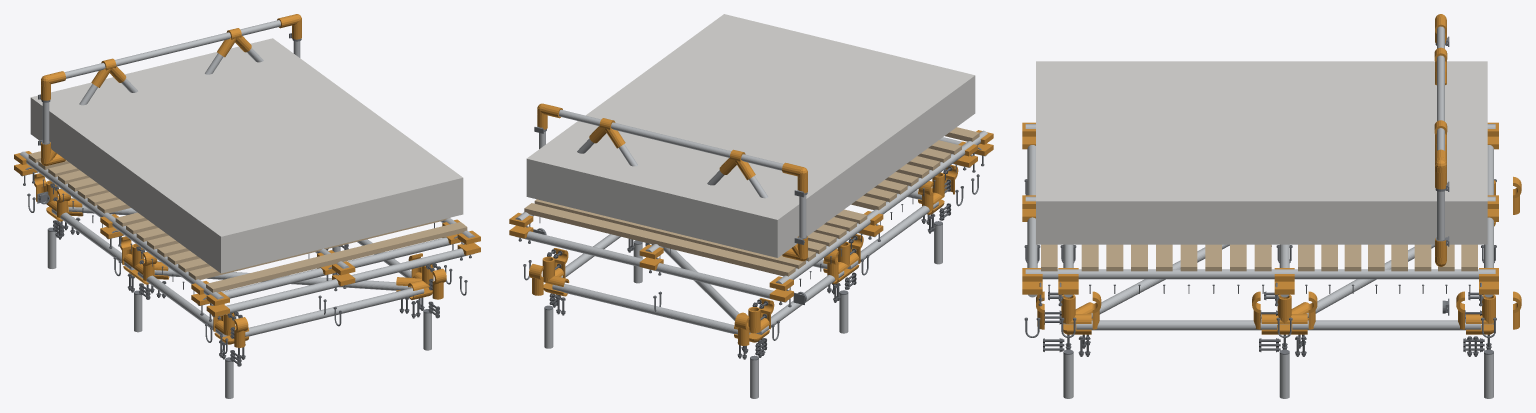
File: cama_explodida.glb
The picture shows the model from 3 angles, left to right: view 1: azimuth 30°, elevation 25°; view 2: azimuth 150°, elevation 25°; view 3: azimuth 270°, elevation 25°; orthographic projection. The views are drawn at different scales.
Parts seen in each view (by area): view 1: colchao, rp_16, gd_95, gd_80, bc_80, lg_-72, hr_100, bd_1, bl_-1_-10, rp_15, bl_-1_-95, no_1_2_up (+4 smaller); view 2: colchao, rp_0, gd_-95, bc_-95, lg_-72, hr_100, rp_1, bl_-1_-10, bd_0, bl_-1_-95, hH_36, hH_-36 (+5 smaller); view 3: colchao, lg_72, bl_1_-10, bl_1_-95, gd_95, bd_1, hr_100, no_1_1_up, gd_-95, bd_0, no_1_2_up, no_1_0_up (+20 smaller).
Boxes of the visible parts, x1=… form: colchao: x1=30, y1=38, x2=463, y2=273; rp_16: x1=206, y1=222, x2=467, y2=292; gd_95: x1=213, y1=248, x2=474, y2=317; gd_80: x1=197, y1=237, x2=459, y2=305; bc_80: x1=245, y1=288, x2=424, y2=336; lg_-72: x1=19, y1=151, x2=223, y2=299; hr_100: x1=64, y1=20, x2=280, y2=78; bd_1: x1=154, y1=268, x2=411, y2=290; bl_-1_-10: x1=137, y1=271, x2=227, y2=337; rp_15: x1=188, y1=218, x2=448, y2=280; bl_-1_-95: x1=51, y1=208, x2=134, y2=270; no_1_2_up: x1=396, y1=264, x2=433, y2=290; colchao: x1=526, y1=14, x2=975, y2=257; rp_0: x1=524, y1=203, x2=795, y2=276; gd_-95: x1=517, y1=231, x2=787, y2=302; bc_-95: x1=552, y1=283, x2=750, y2=334; lg_-72: x1=776, y1=130, x2=987, y2=283; hr_100: x1=559, y1=109, x2=783, y2=170; rp_1: x1=534, y1=199, x2=805, y2=268; bl_-1_-10: x1=847, y1=201, x2=938, y2=269; bd_0: x1=663, y1=247, x2=739, y2=320; bl_-1_-95: x1=756, y1=271, x2=844, y2=334; hH_36: x1=589, y1=118, x2=625, y2=148; hH_-36: x1=719, y1=149, x2=755, y2=180; colchao: x1=1036, y1=61, x2=1487, y2=244; lg_72: x1=1025, y1=269, x2=1495, y2=279; bl_1_-10: x1=1076, y1=320, x2=1276, y2=330; bl_1_-95: x1=1292, y1=320, x2=1481, y2=330; gd_95: x1=1027, y1=145, x2=1037, y2=297; bd_1: x1=1091, y1=244, x2=1229, y2=318; hr_100: x1=1437, y1=26, x2=1444, y2=150; no_1_1_up: x1=1261, y1=294, x2=1308, y2=323; gd_-95: x1=1484, y1=145, x2=1493, y2=297; bd_0: x1=1306, y1=244, x2=1434, y2=317; no_1_2_up: x1=1061, y1=294, x2=1093, y2=323; no_1_0_up: x1=1466, y1=294, x2=1495, y2=323.
Bounding box in the file's own units: 151 × 116 × 208.
